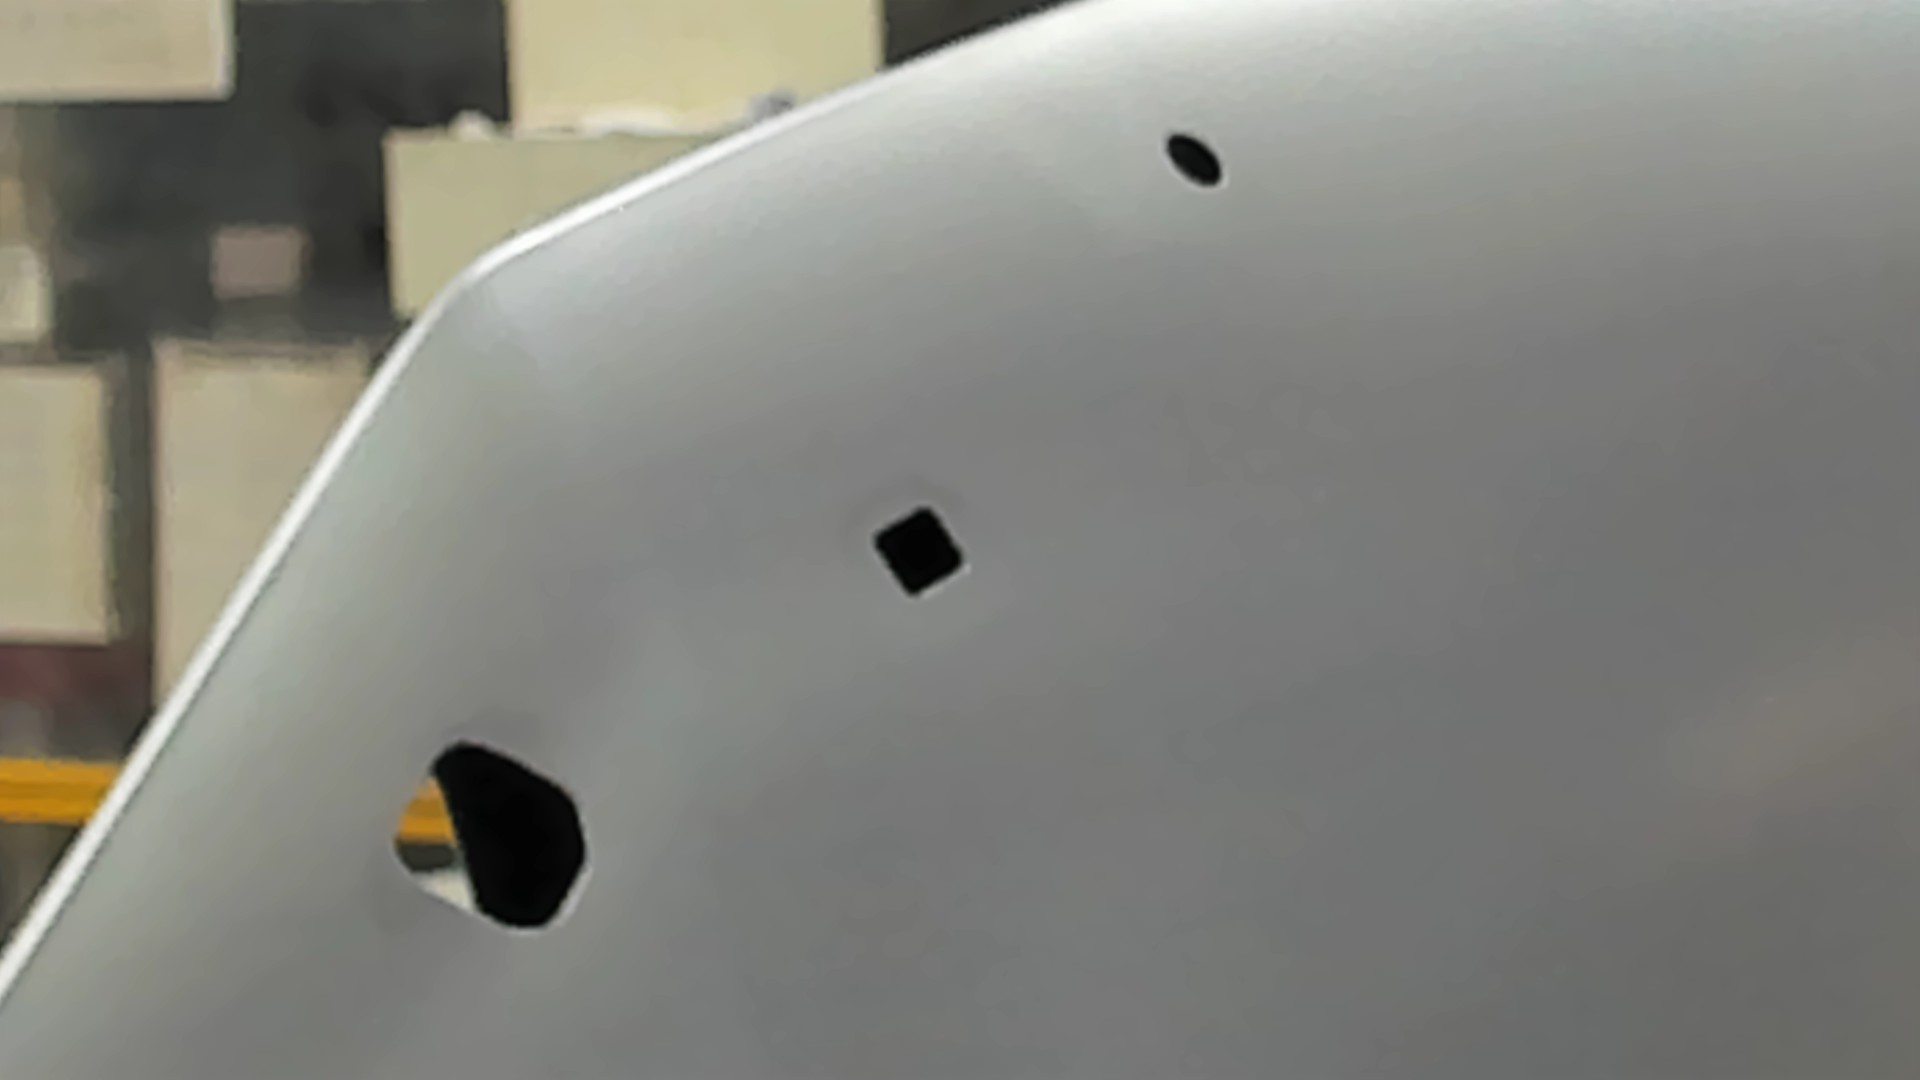chico: (1160, 127, 1228, 193)
grande: (393, 740, 597, 938)
mediano: (868, 501, 971, 601)
